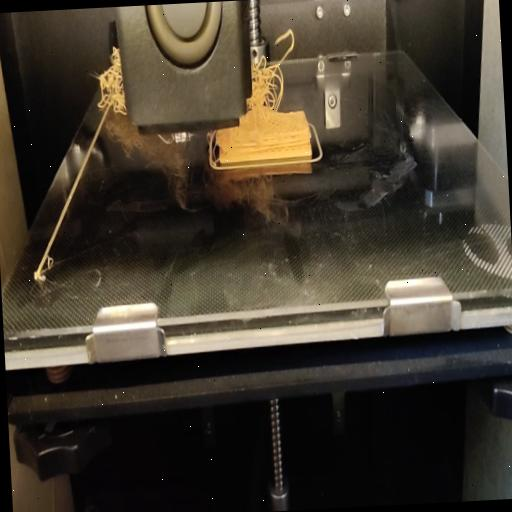spaghetti: (246, 27, 298, 120), (94, 48, 128, 120)
